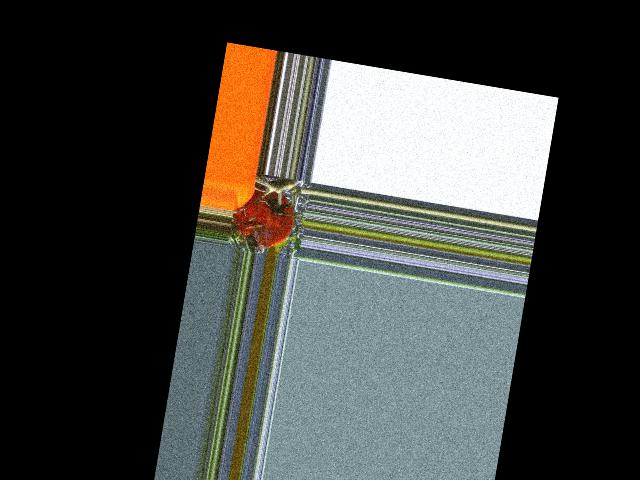tomato: (229, 185, 298, 252)
